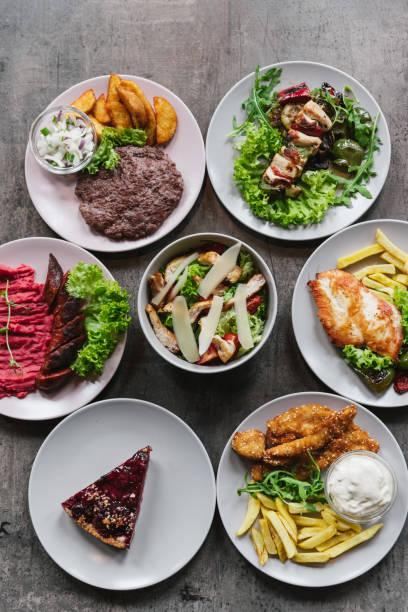Braised Crucian Carp: (214, 391, 408, 586), (26, 398, 214, 588), (204, 60, 392, 239), (25, 76, 206, 252), (1, 235, 126, 419), (290, 218, 408, 405), (136, 232, 275, 373)
